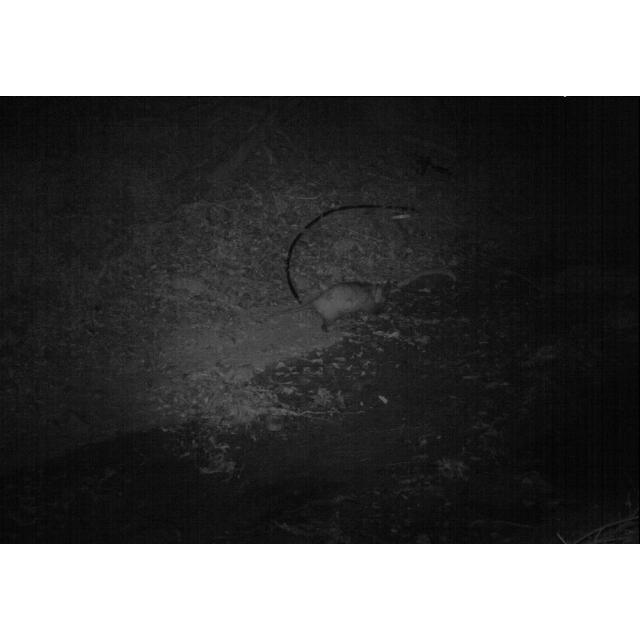animals: (266, 280, 406, 326)
